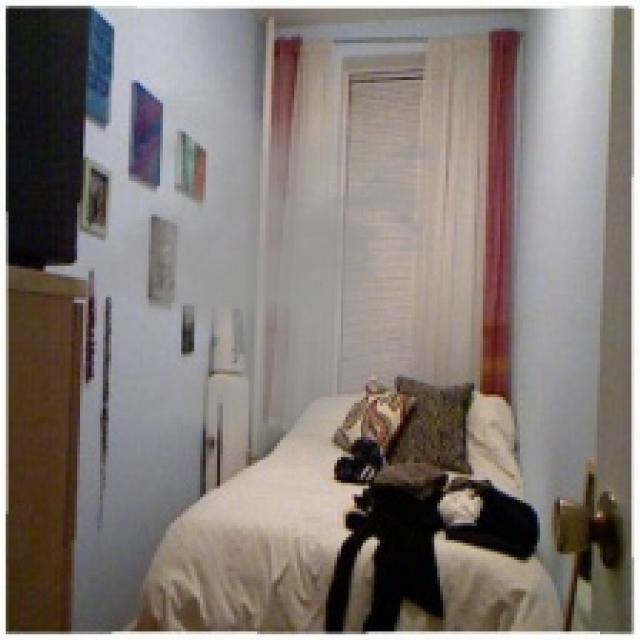smoke: (60, 86, 454, 457)
